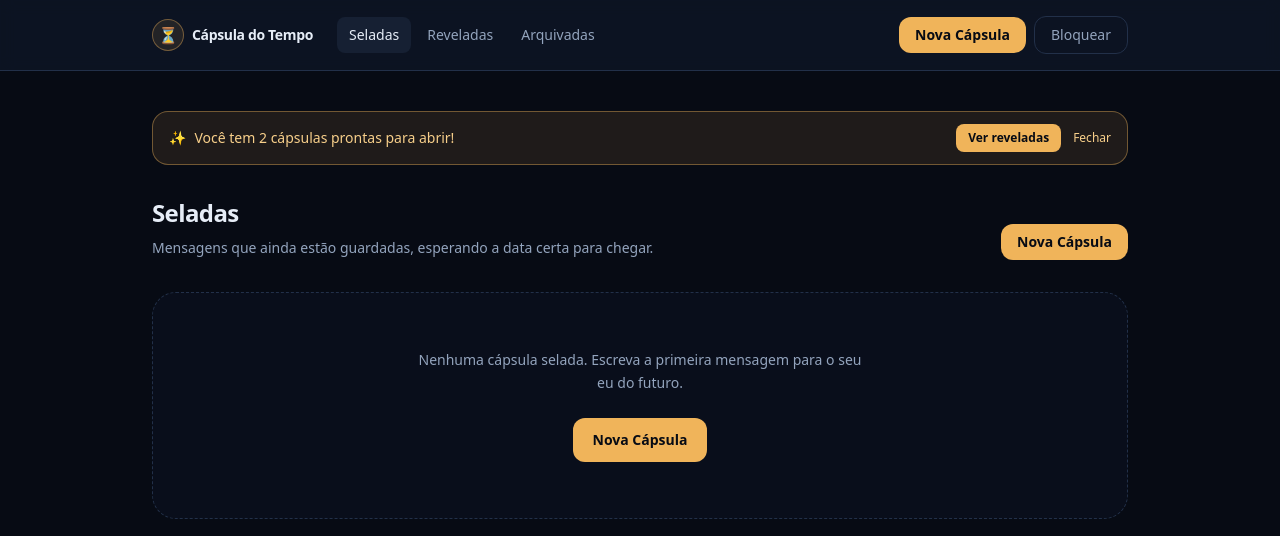
Test: eventos do backend › exibe o banner ao receber capsules://revealed e navega para reveladas
The image size is (1280, 536).
Check: the heading "Seladas" is shown, box [152,196,239,229]
Check: the message shows "Você tem 2 cápsulas prontas para abrir!", box [194,128,454,147]
Click the button "Ver reveladas" at (1009, 138), box [956,124,1061,152]
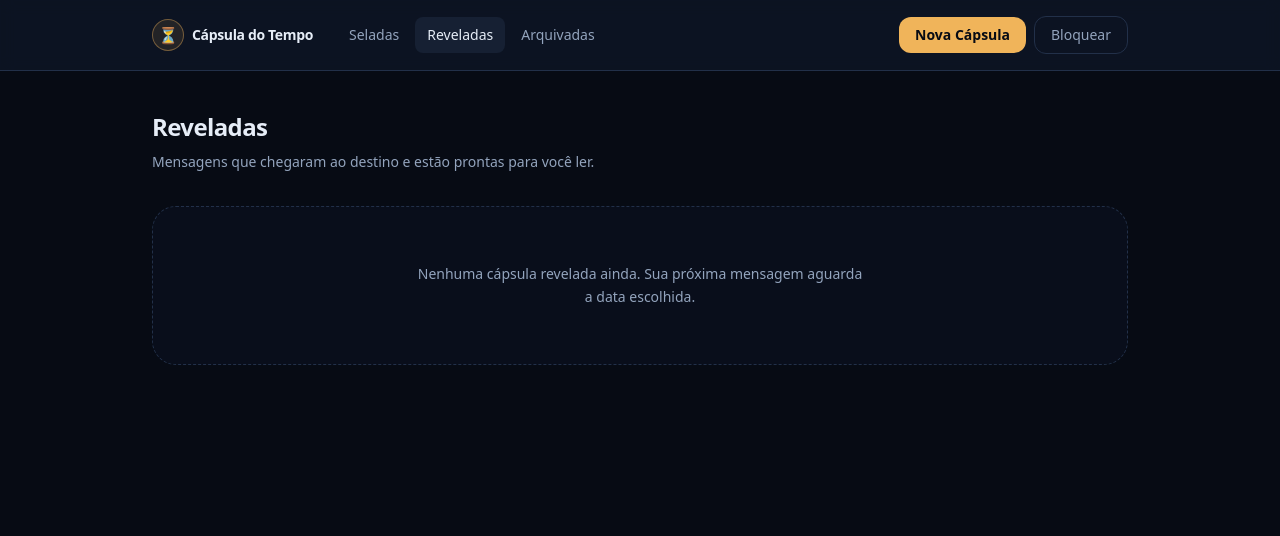
Check: the heading "Reveladas" is shown, box [152,110,267,143]
Check: the message "✨ Você tem 2 cápsulas prontas para abrir! Ver reveladas Fechar" is gone
